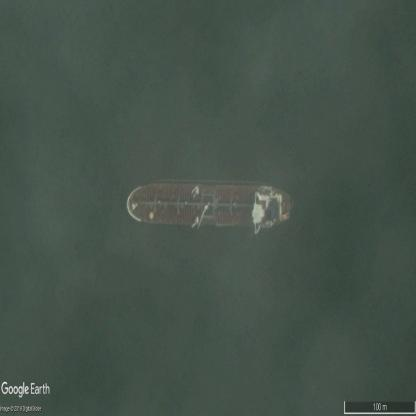ship: (127, 175, 294, 232)
